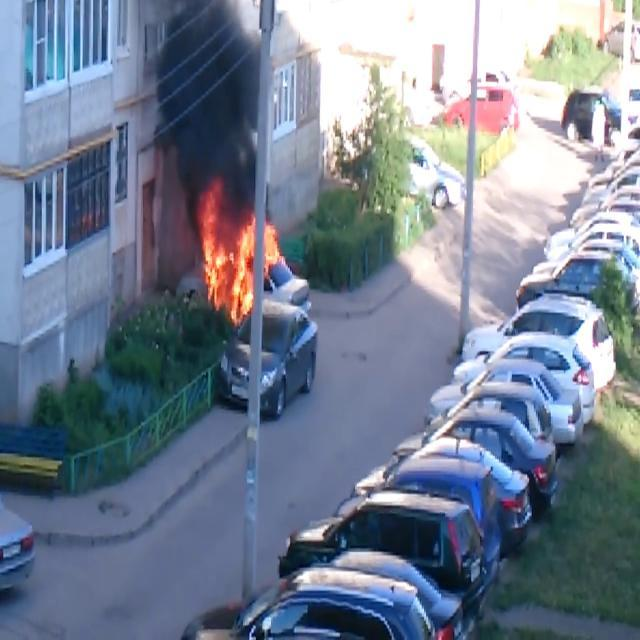Fire: (197, 196, 281, 316)
Smoke: (138, 0, 271, 222)
